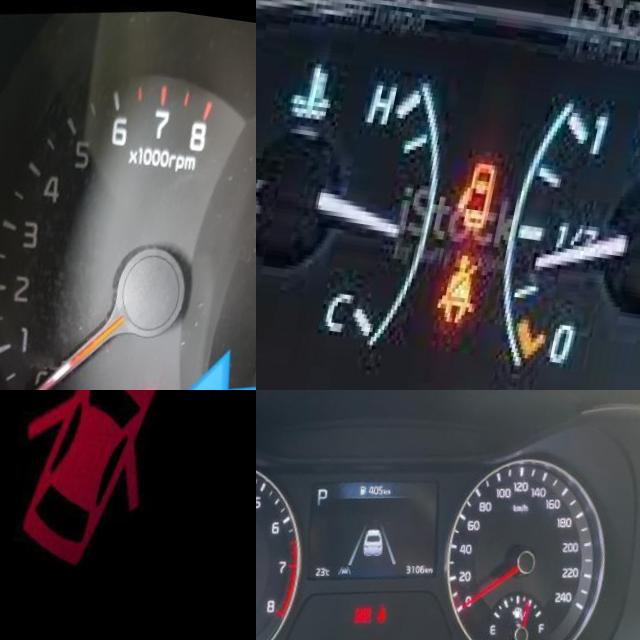Doors: (151, 379, 179, 390)
Seat Belt: (449, 241, 500, 321)
